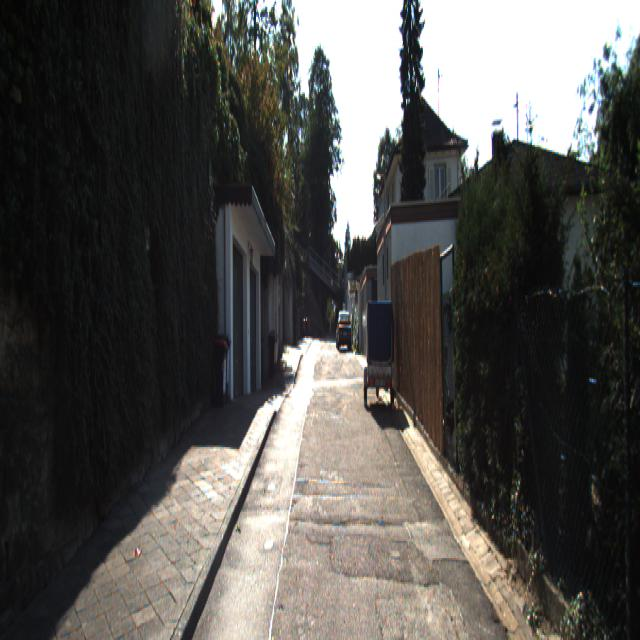Car: (364, 305, 398, 419), (336, 313, 352, 356)
